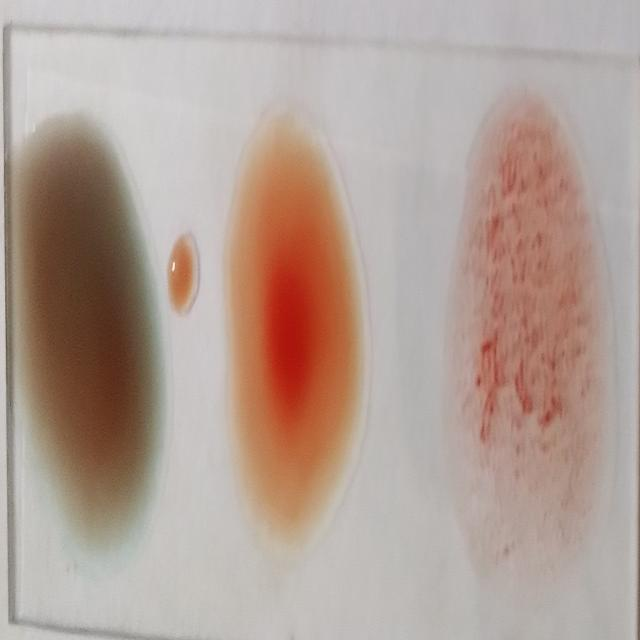D: (448, 96, 600, 565)
